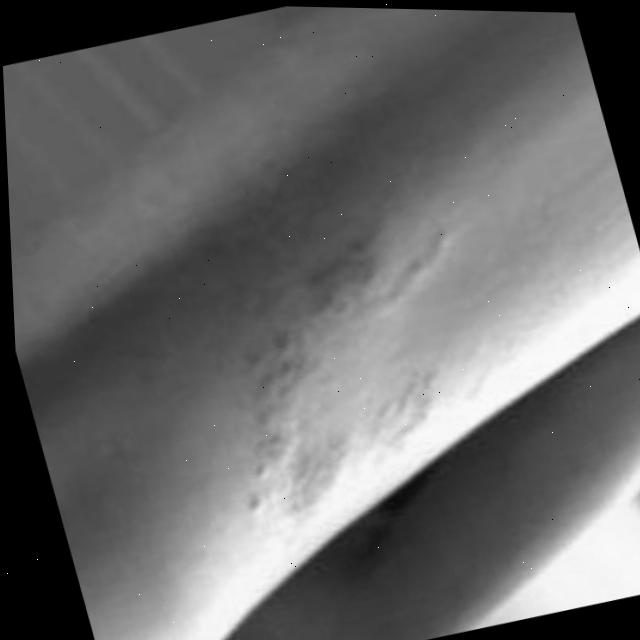Shingles: (196, 242, 446, 505)
